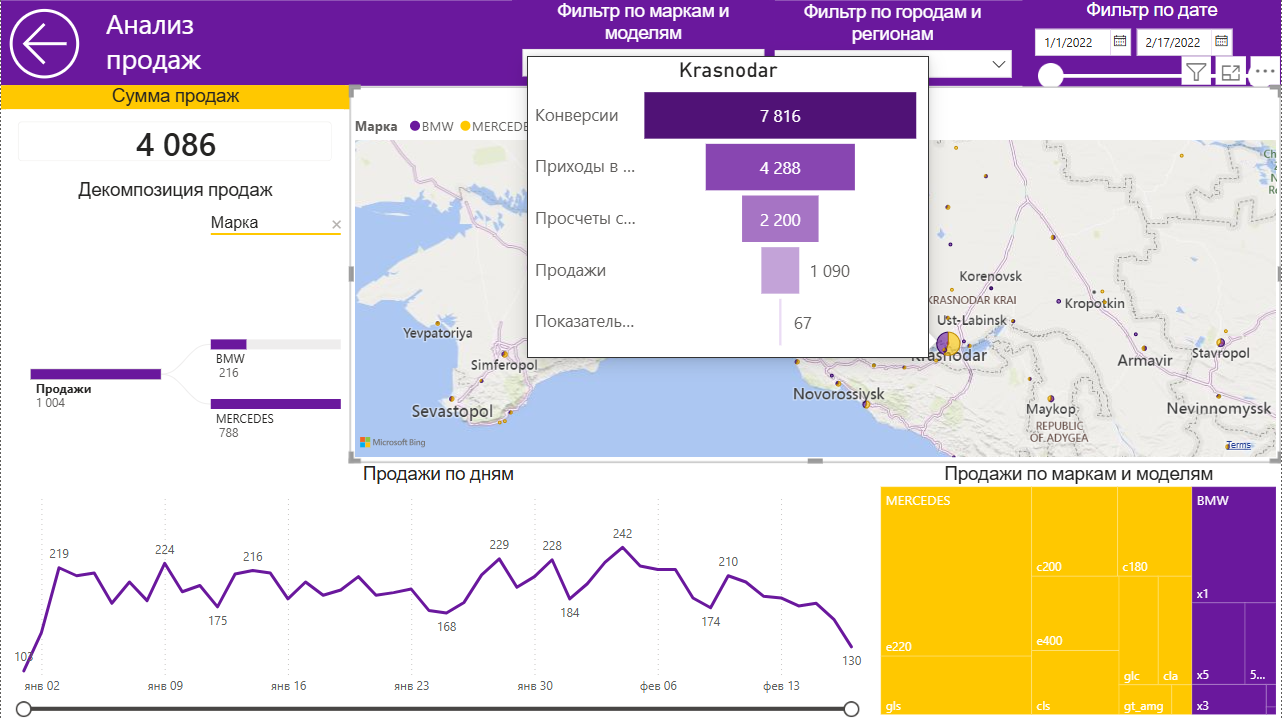

This screenshot's page, from the dashboard's own definition file:
{"tool":"powerbi","page":{"name":"Анализ продаж","canvas":[1280,720],"ordinal":1},"visuals":[{"type":"textbox","box":[100.1,1.2,1179.9,85.7],"z":0},{"type":"actionButton","box":[0,1.2,100.1,86.9],"z":1000},{"type":"slicer","title":"Фильтр по городам и регионам","fields":{"Values":["Маркетинговые данные.Регион","Маркетинговые данные.Город"]},"box":[762.5,2.4,258.2,83.2],"z":2000},{"type":"slicer","title":"Фильтр по маркам и моделям","fields":{"Values":["Маркетинговые данные.Марка из домена","Маркетинговые данные.Модель_2"]},"box":[511.8,1.4,262.1,83.7],"z":3000},{"type":"map","title":"Продажи по городам","fields":{"Category":["Маркетинговые данные.Город"],"Size":["Sum(Данные из CRM.Продажа)"],"Series":["Маркетинговые данные.Марка из домена"]},"box":[348.7,88.1,931.4,375.2],"z":4000},{"type":"decompositionTreeVisual","title":"Декомпозиция продаж","fields":{"Analyze":["Sum(Данные из CRM.Продажа)"],"ExplainBy":["Маркетинговые данные.Источник перехода","Маркетинговые данные.Дата.Изменение.Иерархия дат.Месяц","Маркетинговые данные.Модель_2","Данные из CRM.Город","Маркетинговые данные.Марка из домена"]},"box":[0,179.8,348.7,283.5],"z":5000},{"type":"treemap","title":"Продажи по маркам и моделям","fields":{"Group":["Маркетинговые данные.Марка из домена"],"Values":["Sum(Данные из CRM.Продажа)"],"Details":["Маркетинговые данные.Модель_2"]},"box":[874.7,463.3,405.4,257],"z":6000},{"type":"cardVisual","title":"Сумма продаж","fields":{"Data":["Sum(Данные из CRM.Продажа)"]},"box":[0,85.7,348.7,94.1],"z":7000},{"type":"slicer","title":"Фильтр по дате","fields":{"Values":["Маркетинговые данные.Дата"]},"box":[1020.6,0,259.4,88.1],"z":8000},{"type":"lineChart","title":"Продажи по дням","fields":{"Y":["Sum(Данные из CRM.Продажа)"],"Category":["Маркетинговые данные.Дата.Изменение.Иерархия дат.Год","Маркетинговые данные.Дата.Изменение.Иерархия дат.Квартал","Маркетинговые данные.Дата.Изменение.Иерархия дат.Месяц","Маркетинговые данные.Дата.Изменение.Иерархия дат.День"]},"box":[0,463.3,874.7,257],"z":9000}]}

Visuals, with their boxes on the page's 1280x720 design canvas (x1, y1, x2, y2). These are canvas units, not pixel positions in the 1282x719 screenshot, which may show the page scaled, cropped or inside an application window:
textbox: 100,1,1280,87
actionButton: 0,1,100,88
"Фильтр по городам и регионам" slicer: 762,2,1021,86
"Фильтр по маркам и моделям" slicer: 512,1,774,85
"Продажи по городам" map: 349,88,1280,463
"Декомпозиция продаж" decompositionTreeVisual: 0,180,349,463
"Продажи по маркам и моделям" treemap: 875,463,1280,720
"Сумма продаж" cardVisual: 0,86,349,180
"Фильтр по дате" slicer: 1021,0,1280,88
"Продажи по дням" lineChart: 0,463,875,720
